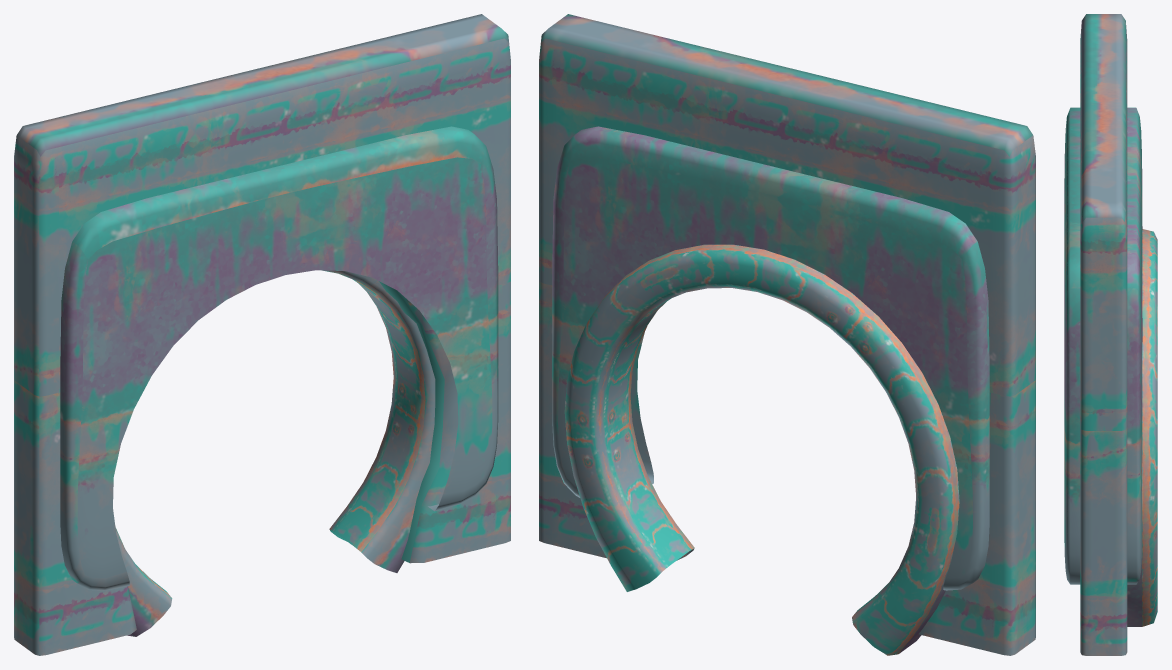
The model's file is wall_elevator.fbx.
3 views of the same model, side by side, from view 1: azimuth 30°, elevation 25°; view 2: azimuth 150°, elevation 25°; view 3: azimuth 270°, elevation 25° (orthographic). The views are drawn at different scales.
Visible parts, largest first — view 1: polySurface797, polySurface799, polySurface800; view 2: polySurface797, polySurface798, polySurface800, polySurface799; view 3: polySurface797, polySurface799, polySurface798, polySurface800.
Part boxes in pixels (x1,y1,x2,y2): polySurface797: (14,14,510,655); polySurface799: (60,126,498,590); polySurface800: (115,270,435,636); polySurface797: (539,14,1035,655); polySurface798: (552,126,989,590); polySurface800: (564,244,959,655); polySurface799: (630,332,653,484); polySurface797: (1080,14,1127,655); polySurface799: (1064,107,1080,584); polySurface798: (1127,107,1142,584); polySurface800: (1127,229,1157,626).
Size of the model in its own units: 411 by 436 by 80.59.
